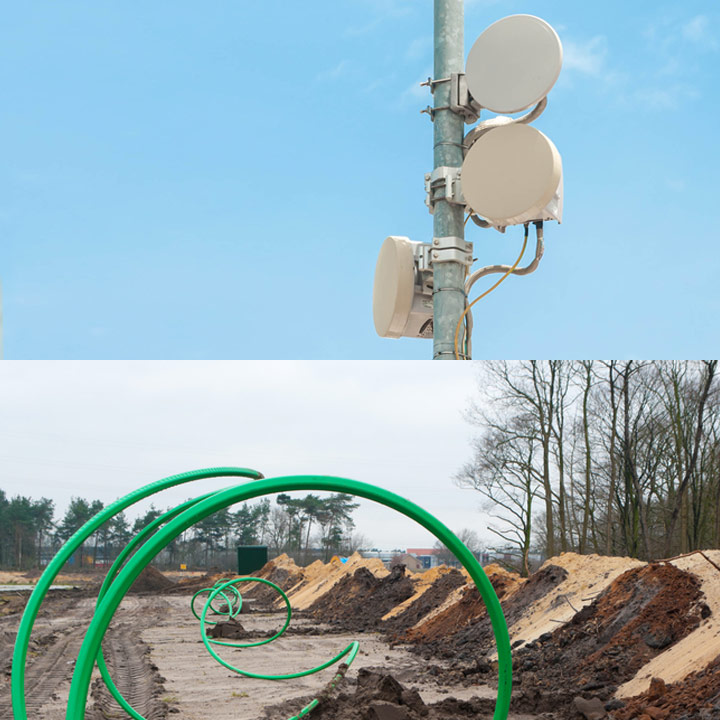ba: (451, 112, 583, 248), (444, 22, 572, 119), (356, 221, 442, 343)
